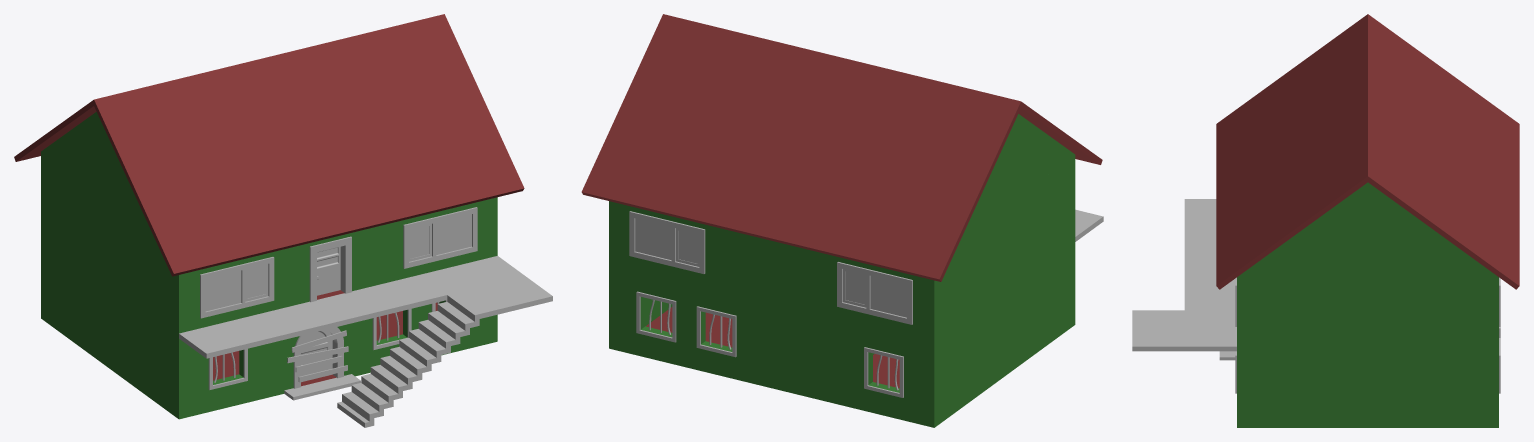
3 views of the same model, side by side, from view 1: azimuth 30°, elevation 25°; view 2: azimuth 150°, elevation 25°; view 3: azimuth 270°, elevation 25° (orthographic). The views are drawn at different scales.
Parts seen in each view (by area): view 1: color[4], color-1-1, color[41], color[3], color[35], color[22], color-2, color[26], color[31], color[39], color[15], color (+4 smaller); view 2: color[4], color-1-1, color[3], color-2, color[19], color[47], color[20], color[46], color[50], color[2], color[25], color[21] (+2 smaller); view 3: color[4], color-1-1, color[3], color[41].
Boxes of the visible parts, bbox=[...] form: color[4]: bbox=[14, 14, 524, 276]; color-1-1: bbox=[41, 152, 497, 419]; color[41]: bbox=[179, 256, 552, 427]; color[3]: bbox=[41, 112, 151, 232]; color[35]: bbox=[200, 257, 274, 318]; color[22]: bbox=[403, 207, 477, 268]; color-2: bbox=[213, 302, 437, 386]; color[26]: bbox=[309, 236, 351, 302]; color[31]: bbox=[205, 270, 241, 311]; color[39]: bbox=[436, 214, 471, 254]; color[15]: bbox=[317, 246, 340, 295]; color: bbox=[284, 374, 360, 400]; color[4]: bbox=[581, 14, 1102, 281]; color-1-1: bbox=[609, 155, 1075, 427]; color[3]: bbox=[962, 114, 1074, 236]; color-2: bbox=[646, 307, 899, 388]; color[19]: bbox=[629, 211, 705, 273]; color[47]: bbox=[837, 262, 912, 324]; color[20]: bbox=[635, 218, 671, 260]; color[46]: bbox=[870, 276, 906, 317]; color[50]: bbox=[696, 306, 736, 357]; color[2]: bbox=[636, 291, 676, 342]; color[25]: bbox=[864, 347, 903, 397]; color[21]: bbox=[845, 271, 864, 304]; color[4]: bbox=[1216, 14, 1519, 289]; color-1-1: bbox=[1237, 270, 1498, 427]; color[3]: bbox=[1247, 182, 1488, 269]; color[41]: bbox=[1132, 199, 1236, 351].
Size of the model in its own units: 440 by 328 by 444.
